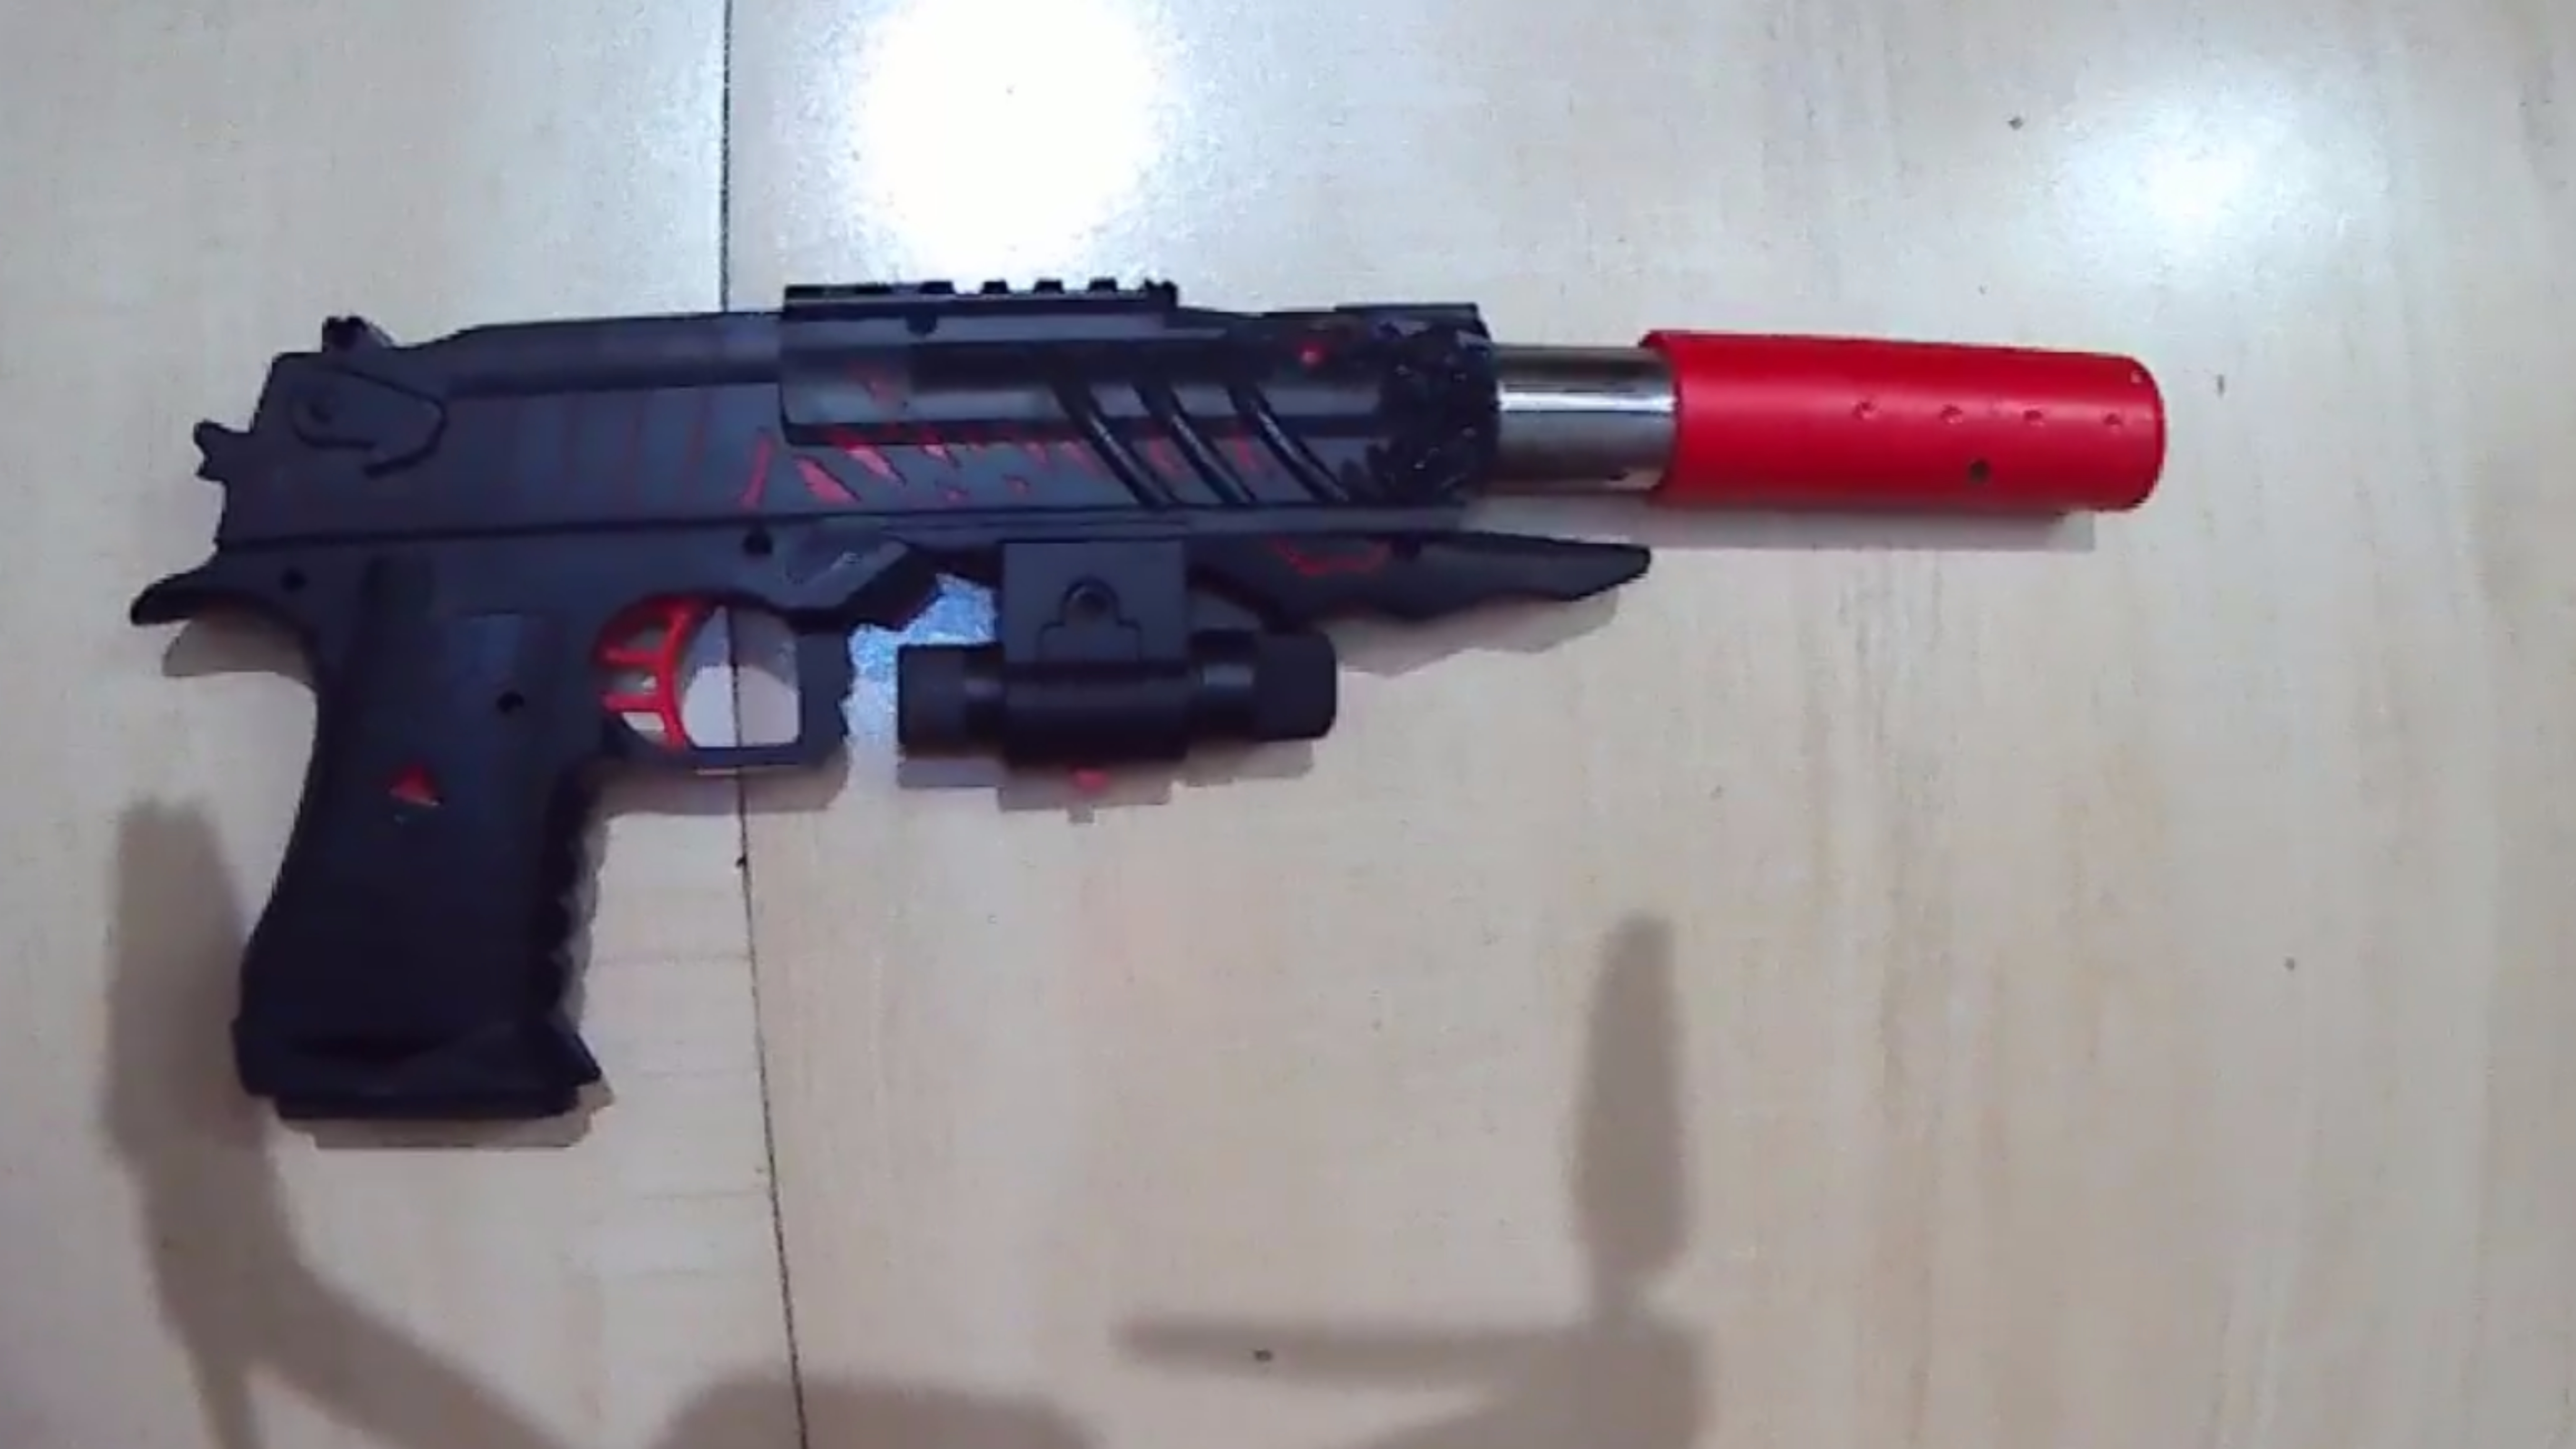handgun: (69, 249, 2215, 1154)
